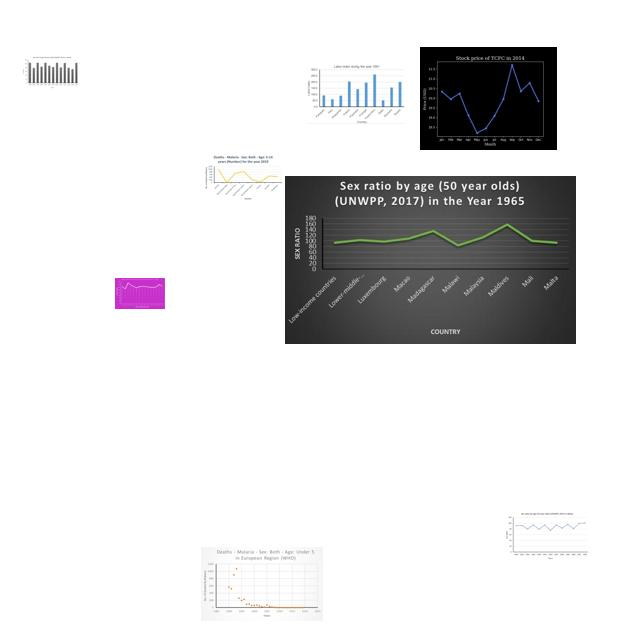Graph: (285, 176, 576, 344), (420, 47, 557, 150), (201, 547, 323, 621), (307, 64, 406, 124), (504, 510, 590, 561), (203, 154, 283, 201), (21, 55, 82, 90), (115, 278, 165, 309)
